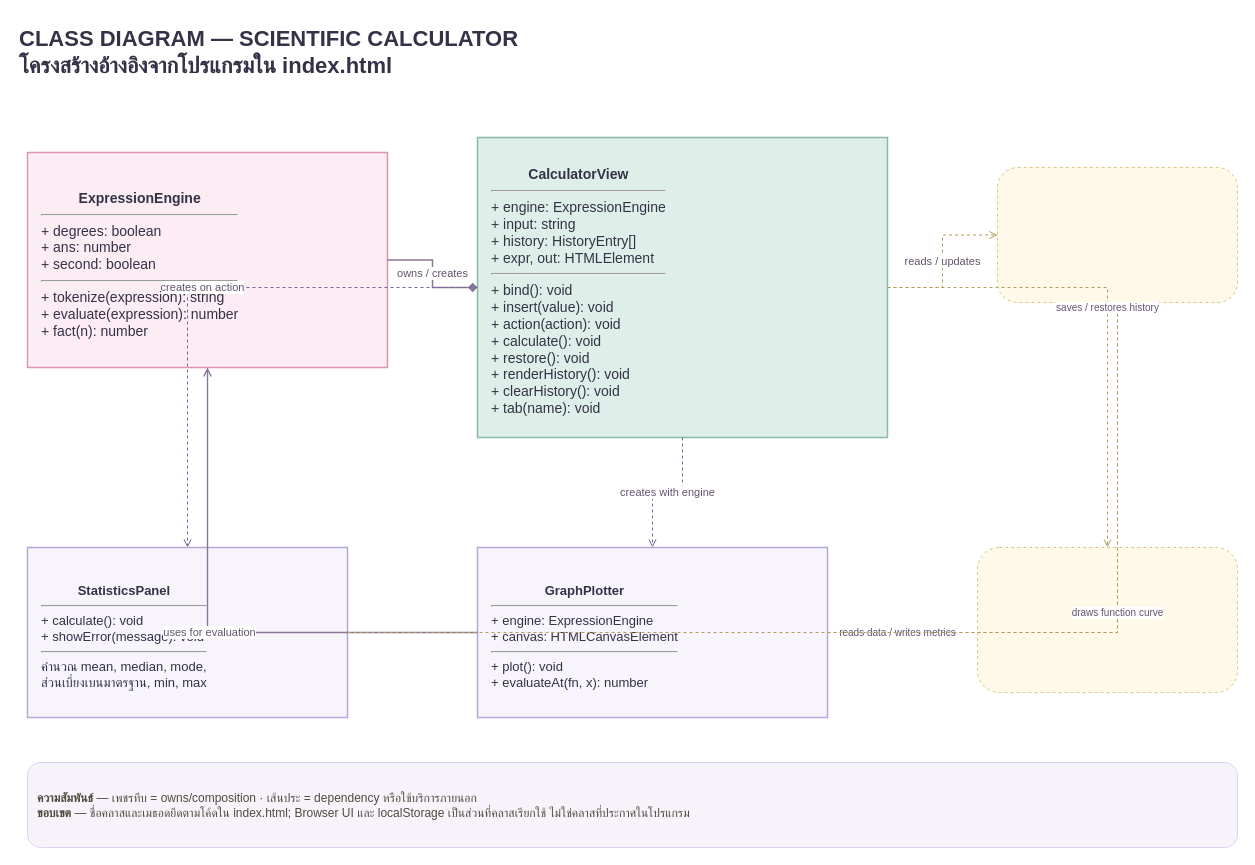
Some shapes in this 1255 by 865 pixel diagram are drawn without their labels. The centre of each missing label's shape, as x and y in pixels:
"Browser UI / DOM ปุ่ม, ช่องกรอก, แท็บ, หน้าจอผลลัพธ์ และ canvas" goes at (1117,234).
"localStorage key: mali-history เก็บประวัติเป็น JSON { input, result }[]" goes at (1107,619).
